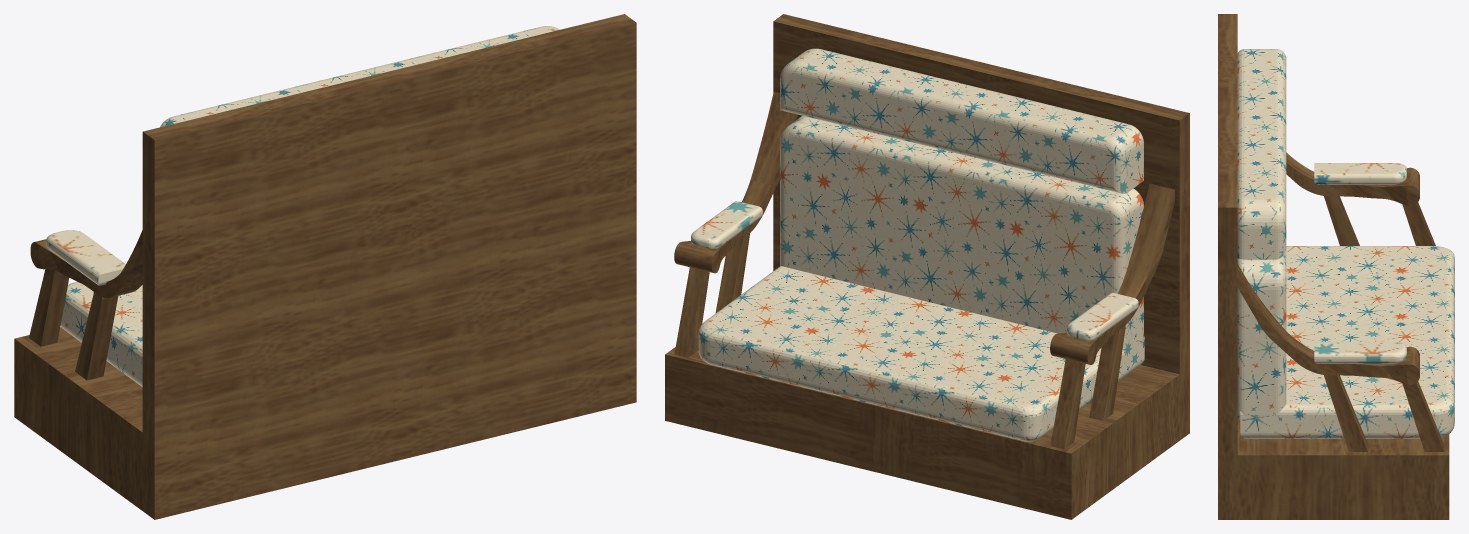
Rendered from train_seat.glb.
3 renders of one model, left to right at view 1: azimuth 30°, elevation 25°; view 2: azimuth 150°, elevation 25°; view 3: azimuth 270°, elevation 25°, orthographic. The views are drawn at different scales.
Parts seen in each view (by area): view 1: Cube; view 2: Cube; view 3: Cube.
Part boxes in pixels (x1,y1,x2,y2): Cube: (14, 14, 636, 519); Cube: (665, 14, 1189, 519); Cube: (1218, 14, 1454, 519).
Size of the model in its own units: 10.2 by 7.55 by 5.18.
Materials: 2 (2 with a texture image).
